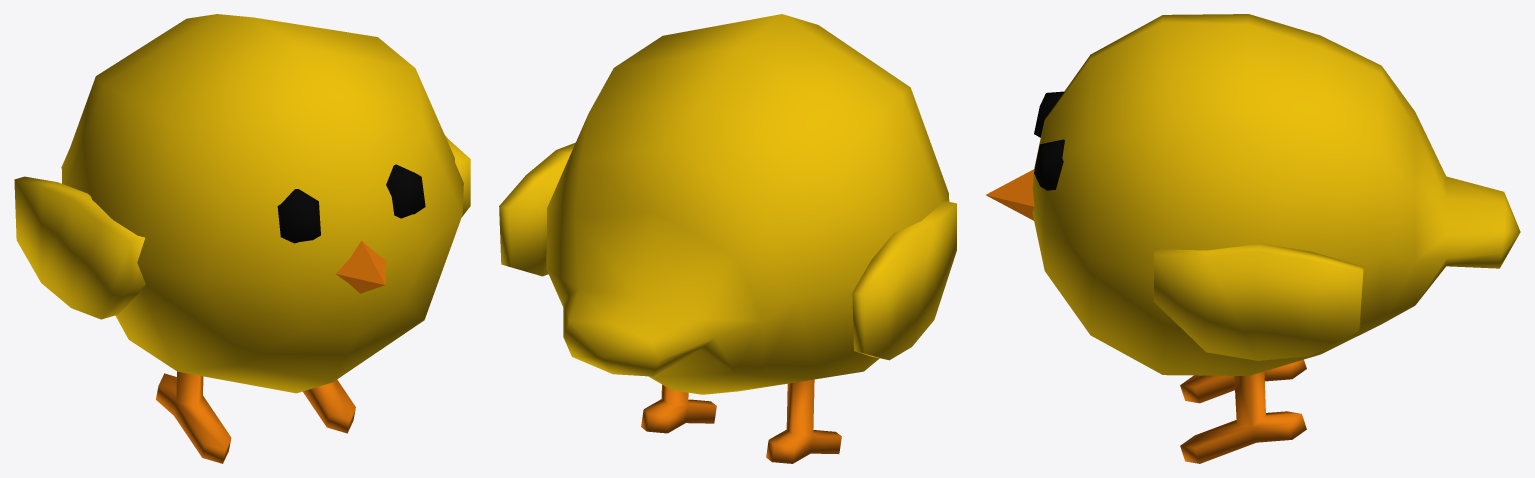
File: chicken.fbx
The picture shows the model from 3 angles, left to right: view 1: azimuth 30°, elevation 25°; view 2: azimuth 150°, elevation 25°; view 3: azimuth 270°, elevation 25°; orthographic projection.
Parts seen in each view (by area): view 1: Sphere; view 2: Sphere; view 3: Sphere.
Boxes of the visible parts, box(x1,y1,x2,y2) form: Sphere: box(14, 14, 470, 463); Sphere: box(499, 14, 956, 463); Sphere: box(986, 14, 1520, 463).
Size of the model in its own units: 198 by 214 by 253.
